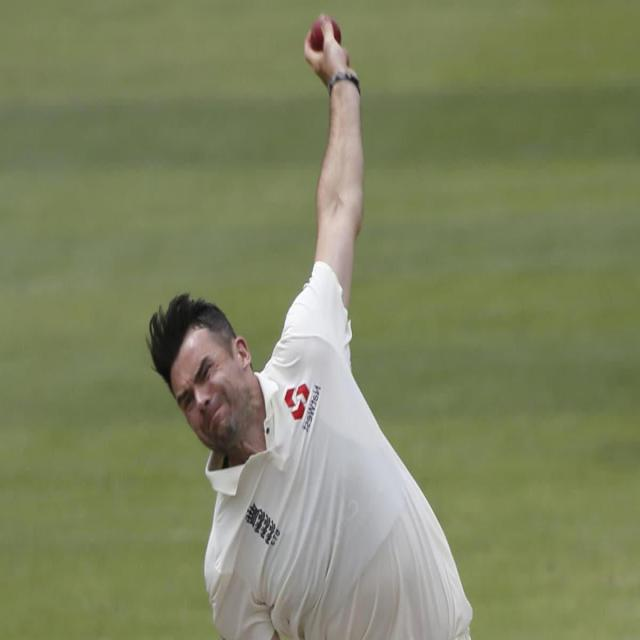ball: (309, 12, 342, 62)
